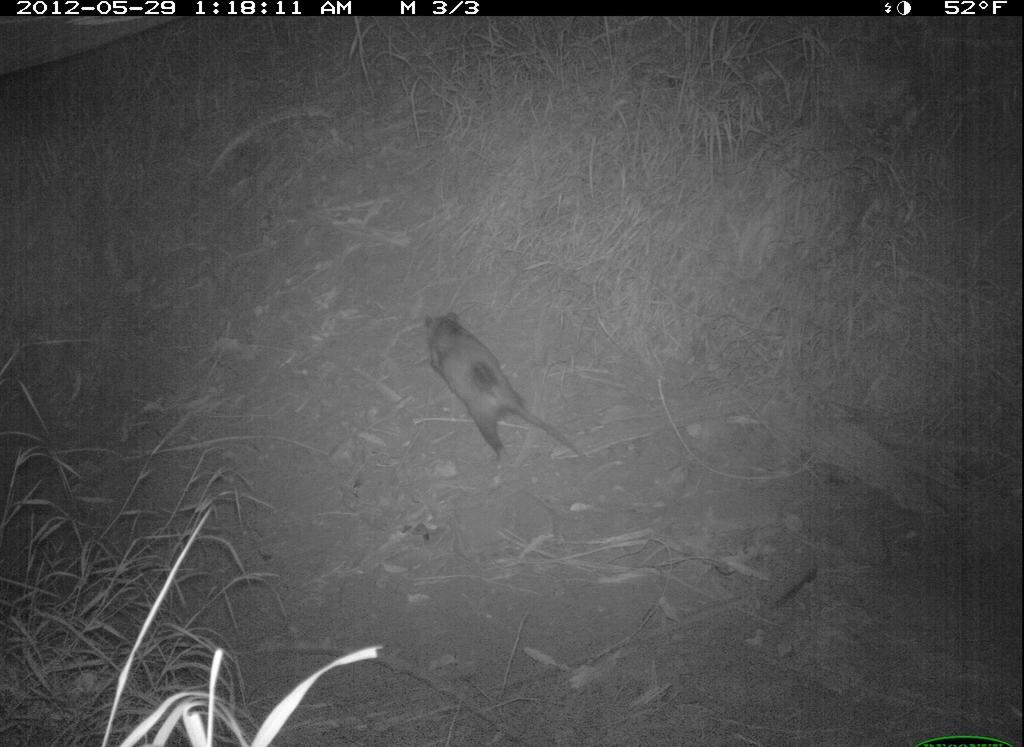opossum: (413, 292, 596, 469)
